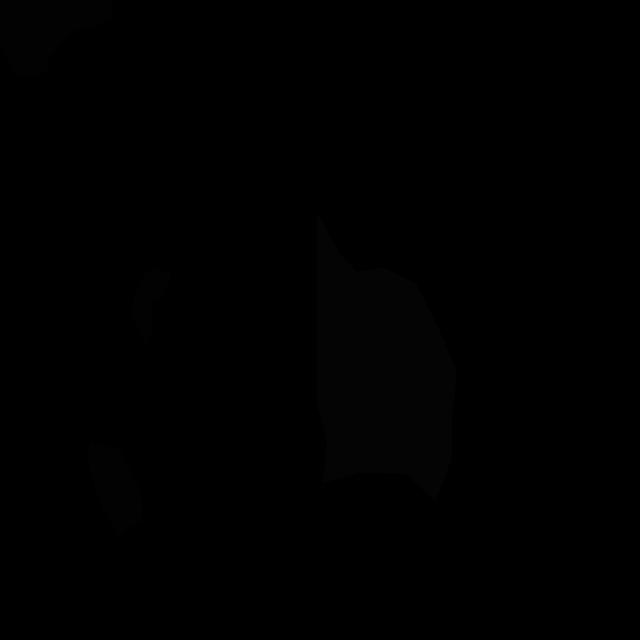cardboard: (86, 442, 143, 537), (130, 268, 171, 346)
soft_plastic: (316, 212, 457, 502)
